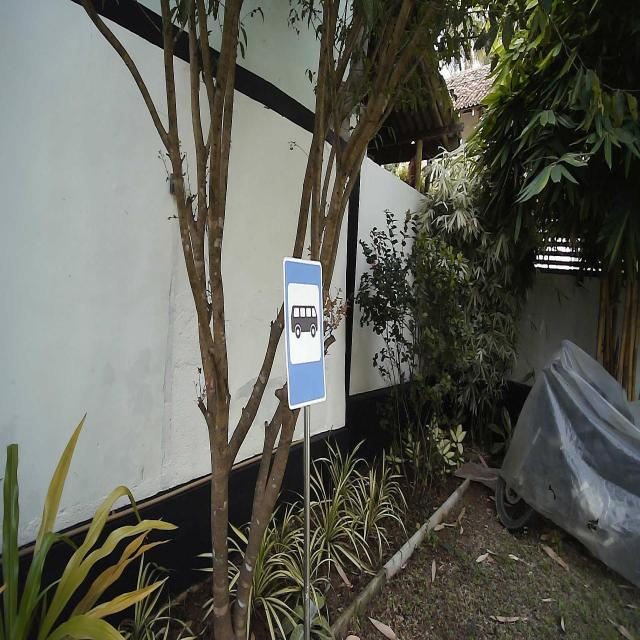bus_stop: (282, 255, 328, 411)
